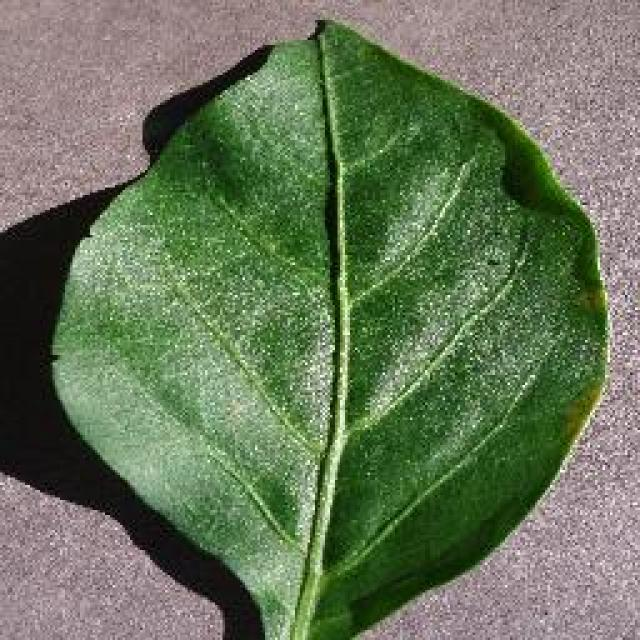Leaf: (27, 3, 621, 624)
